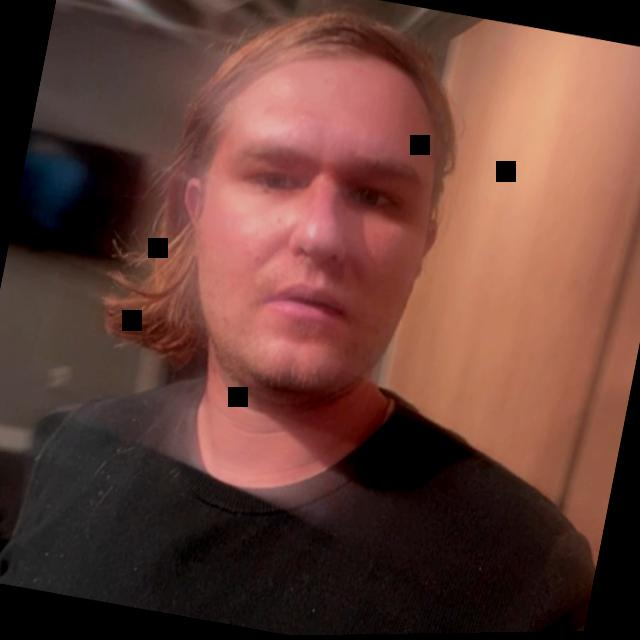NO-Mask: (60, 0, 510, 539)
